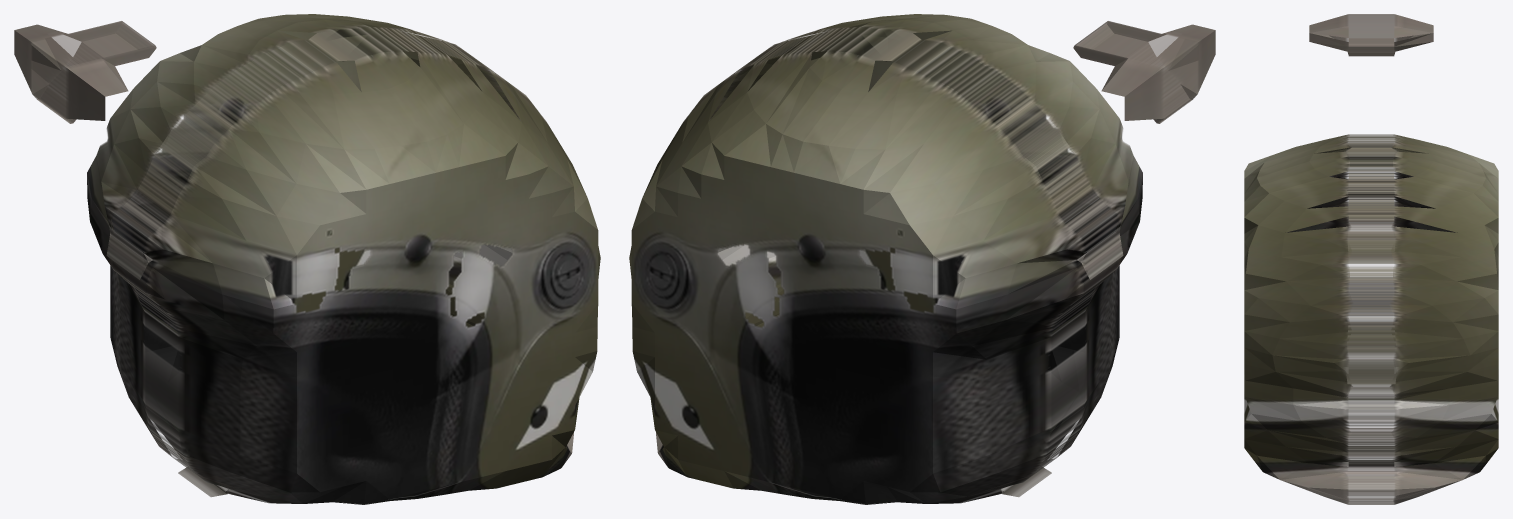
File: puig-vantage-open-face-helmet-070.glb
3 views of the same model, side by side, from view 1: azimuth 30°, elevation 25°; view 2: azimuth 150°, elevation 25°; view 3: azimuth 270°, elevation 25° (orthographic). The views are drawn at different scales.
Visible parts, largest first — view 1: world; view 2: world; view 3: world.
Part boxes in pixels (box(x1,y1,x2,y2)): world: box(14, 14, 600, 504); world: box(629, 14, 1215, 504); world: box(1244, 14, 1498, 504).
Bounding box in the file's own units: 1 × 0.9388 × 0.64.
Materials: 1 (1 with a texture image).
